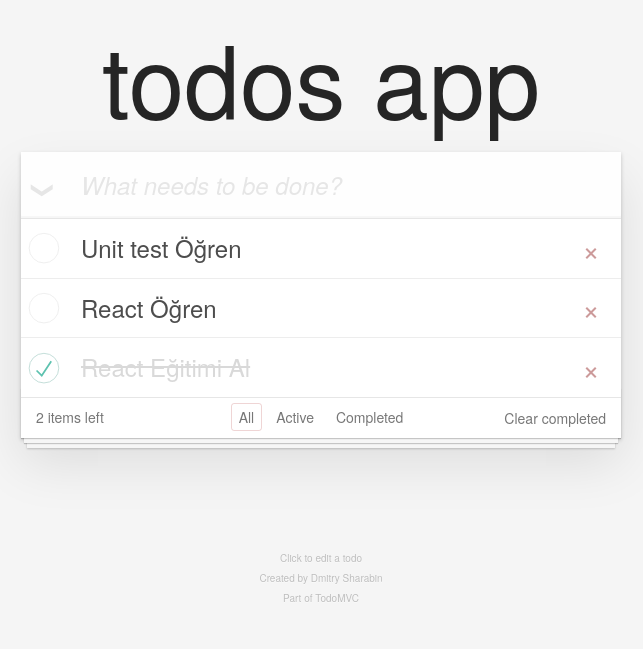
Test case: TodoApp Testleri › Yeni bir eleman eklenebilmeli
Type "Markete git" into the field with test id "new-todo-input" at [321, 185], box [21,152,621,218]
Then press Enter
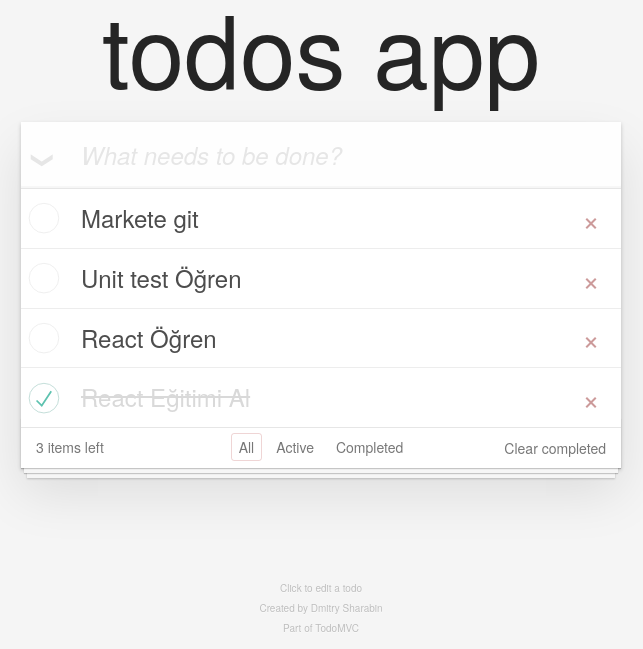
expect the list item "Markete git" is shown: met, box [21,189,621,249]
expect the element with test id "items-left" reads "3 items left": met, box [36,438,104,458]
